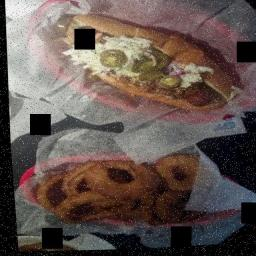hotdog: (177, 86, 214, 112), (73, 28, 102, 44)
